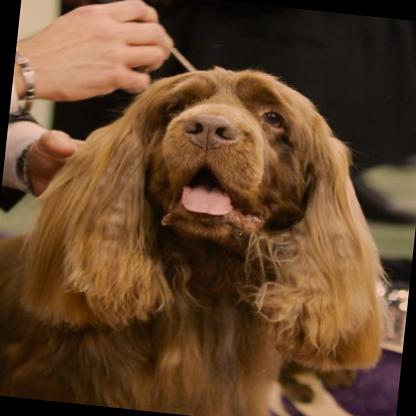Sussex_spaniel: (0, 43, 416, 416)
